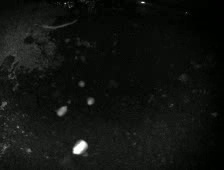corn: (71, 138, 90, 157), (54, 104, 71, 119), (84, 95, 96, 107), (77, 78, 87, 88)
